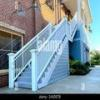stairs: (0, 23, 68, 92)
